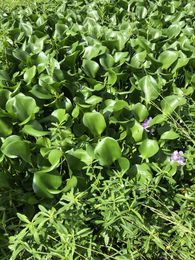water_hyacinth: (1, 19, 191, 194)
